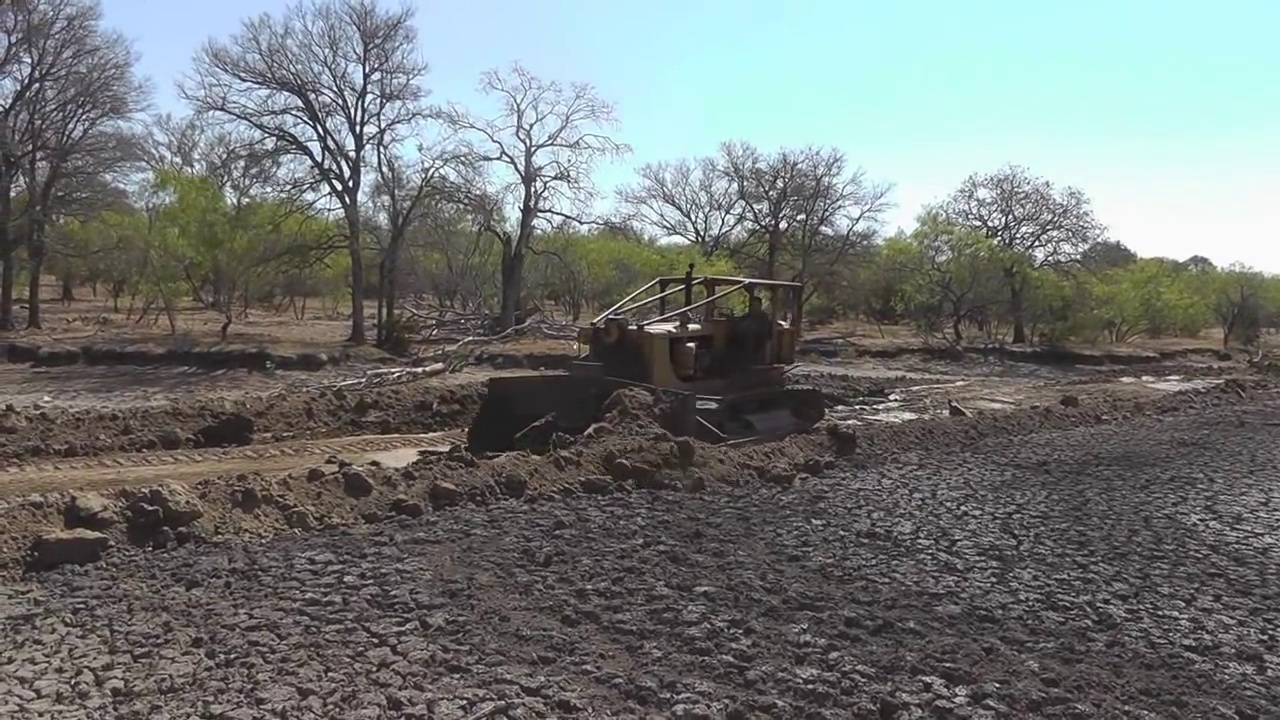bulldozer: (472, 270, 829, 452)
